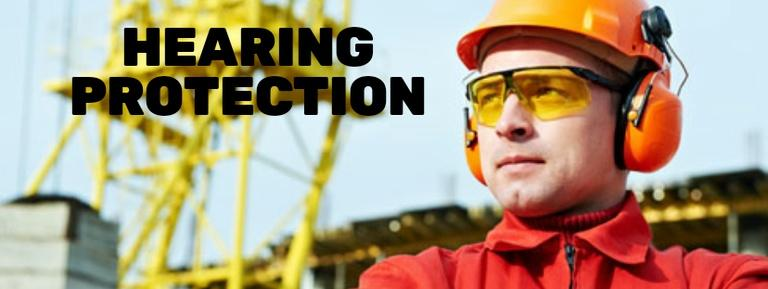helmet: (455, 1, 675, 89)
